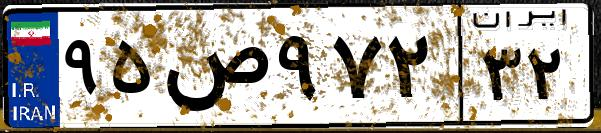2: (385, 28, 445, 110), (525, 38, 570, 115)
3: (475, 38, 525, 113)
5: (110, 28, 158, 98)
7: (330, 28, 385, 110)
9: (270, 28, 330, 110), (57, 26, 110, 100)
ص: (158, 20, 270, 120)
